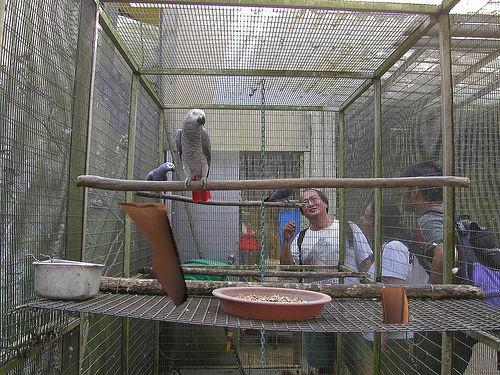tampered: (119, 204, 409, 324)
